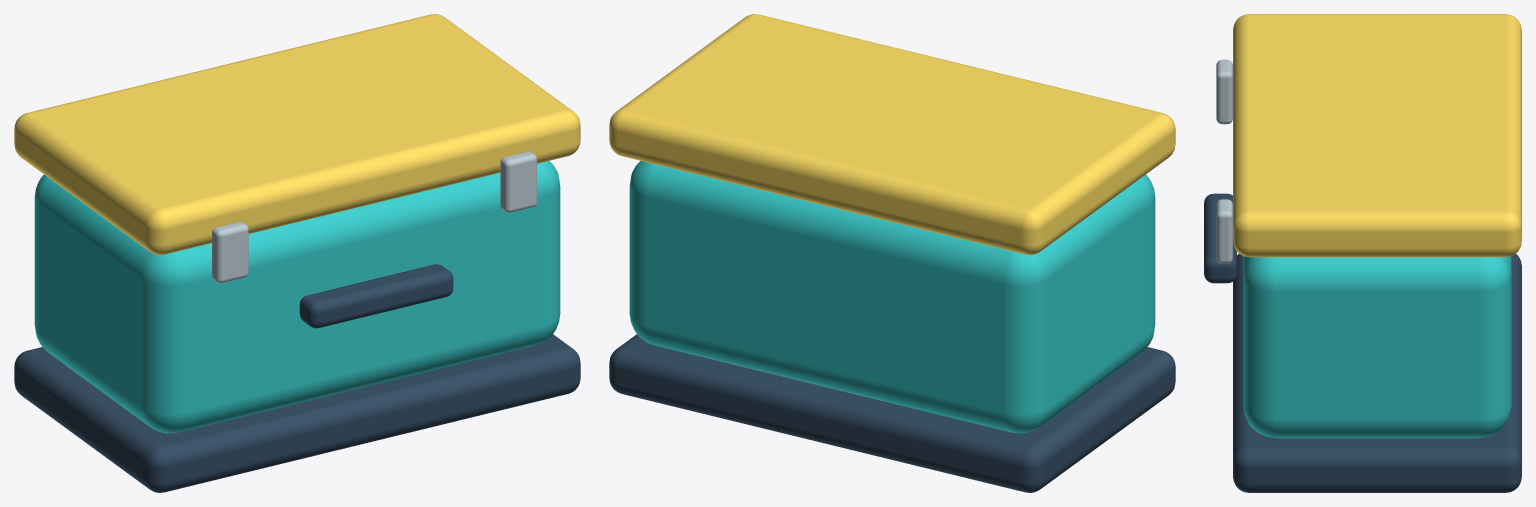
The model's file is party-obstacle-course-party-obstacle-course-equipment--45e5a81d__28951.glb.
The picture shows the model from 3 angles, left to right: view 1: azimuth 30°, elevation 25°; view 2: azimuth 150°, elevation 25°; view 3: azimuth 270°, elevation 25°; orthographic projection.
Parts seen in each view (by area): view 1: party-obstacle-course-equipment-chest; view 2: party-obstacle-course-equipment-chest; view 3: party-obstacle-course-equipment-chest.
Boxes of the visible parts, x1,y1,x2,y2 form: party-obstacle-course-equipment-chest: [14, 14, 580, 492]; party-obstacle-course-equipment-chest: [609, 14, 1175, 492]; party-obstacle-course-equipment-chest: [1204, 14, 1521, 492].
Size of the model in its own units: 1.2 by 0.75 by 0.77.
